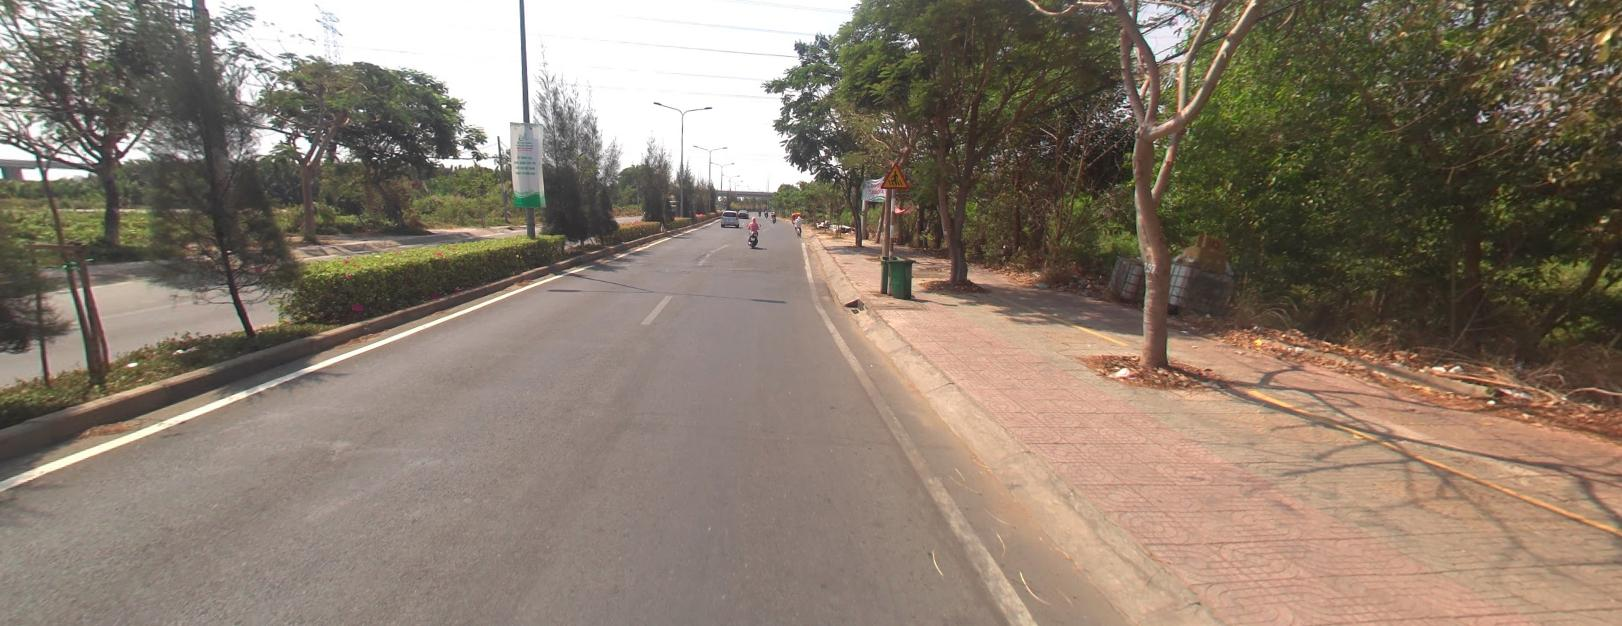Nguy hiem: (879, 161, 908, 188), (881, 163, 909, 188), (881, 162, 908, 187), (881, 162, 908, 186), (881, 163, 907, 187)
